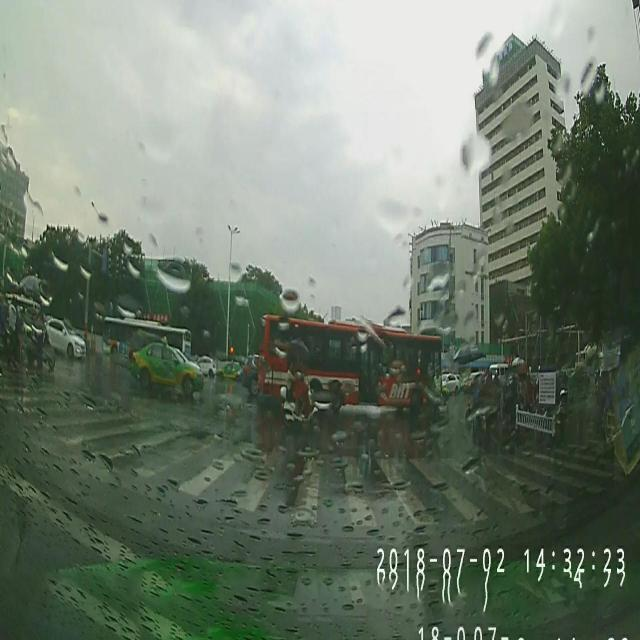car: (132, 340, 204, 390), (47, 318, 86, 358), (242, 352, 258, 393)
